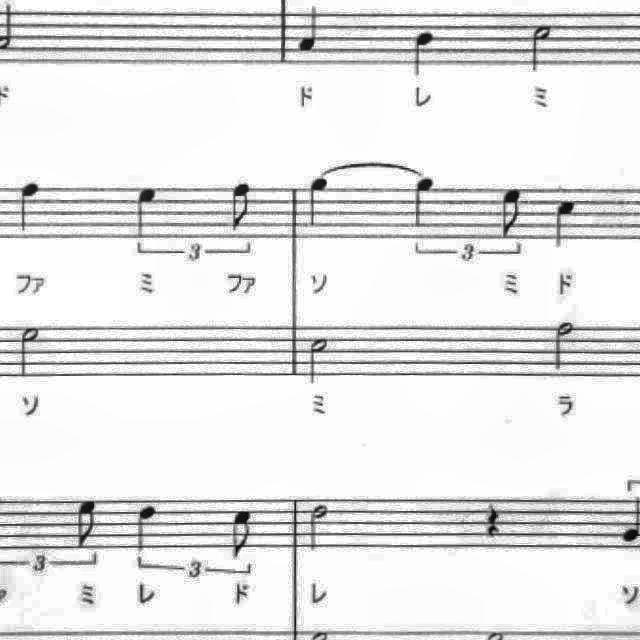Eighth-note: (225, 502, 263, 564), (492, 182, 530, 244), (221, 180, 259, 240), (70, 494, 104, 552)
Half-note: (522, 15, 560, 77), (12, 320, 48, 382), (548, 314, 582, 378), (303, 330, 337, 388), (303, 498, 335, 556)
Quarter-note: (127, 182, 165, 246), (10, 177, 48, 240), (547, 192, 585, 254), (300, 174, 338, 236), (406, 172, 442, 235), (406, 23, 444, 81), (128, 498, 164, 556), (292, 0, 328, 56)
Quarter-rest: (476, 496, 508, 544)
